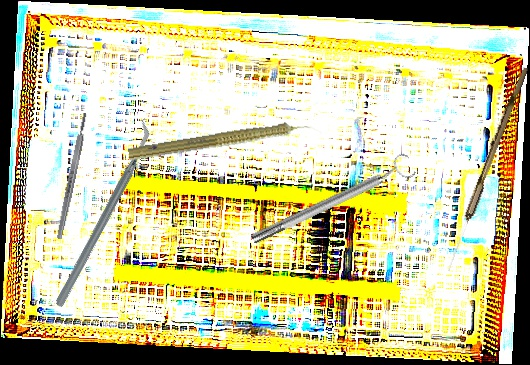Chopper: (0, 118, 205, 309)
Fixation Ring: (246, 151, 418, 251)
Handpiece: (127, 114, 323, 169)
Scalpel Handle: (54, 112, 90, 240)
Surgical Spoon: (444, 65, 529, 273)
